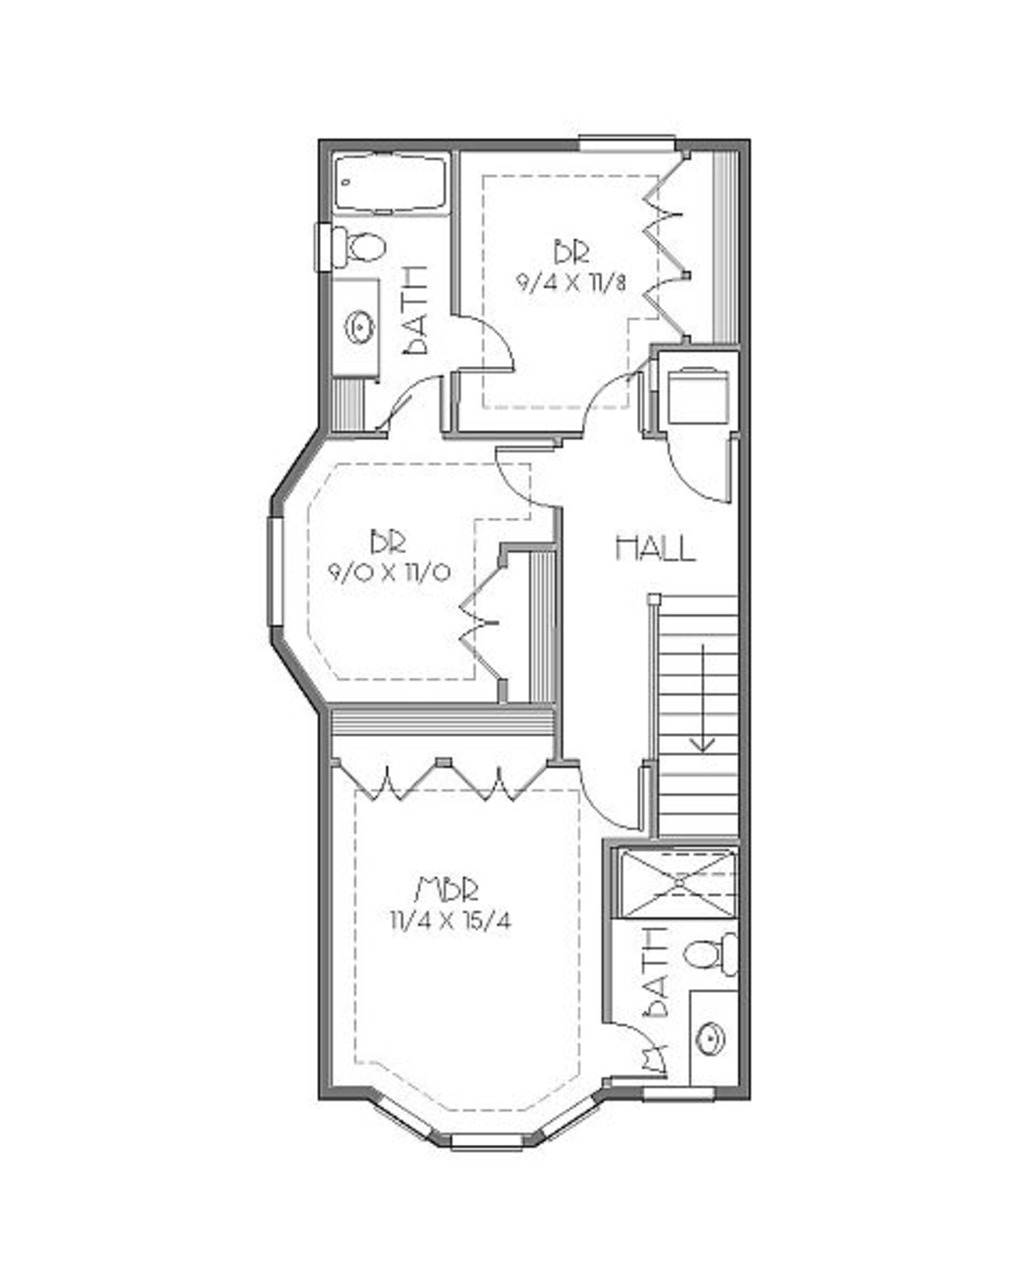door: (639, 138, 697, 275), (451, 556, 513, 681), (492, 432, 567, 517), (581, 358, 652, 446), (440, 753, 546, 811), (330, 754, 444, 808), (631, 271, 709, 344), (574, 758, 647, 835), (664, 435, 742, 507), (592, 1016, 671, 1083), (378, 370, 451, 438), (452, 313, 521, 375)
large_sink: (311, 216, 403, 279), (676, 923, 742, 981)
small_sink: (321, 278, 386, 385), (688, 987, 742, 1092)
stairs: (642, 575, 763, 850)
tub: (330, 148, 455, 212)
window: (359, 1075, 448, 1149), (256, 513, 293, 629), (536, 1091, 602, 1148), (639, 1079, 721, 1111), (447, 1125, 523, 1157)
